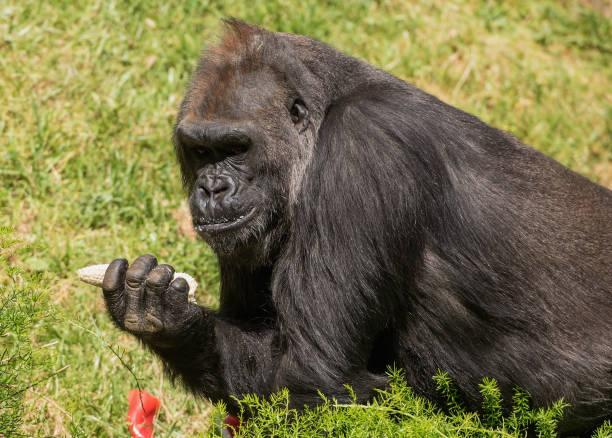gorille_Autres: (68, 3, 612, 438)
